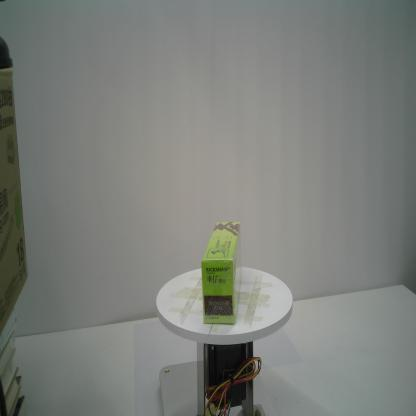Instant Drink: (200, 219, 244, 325)
